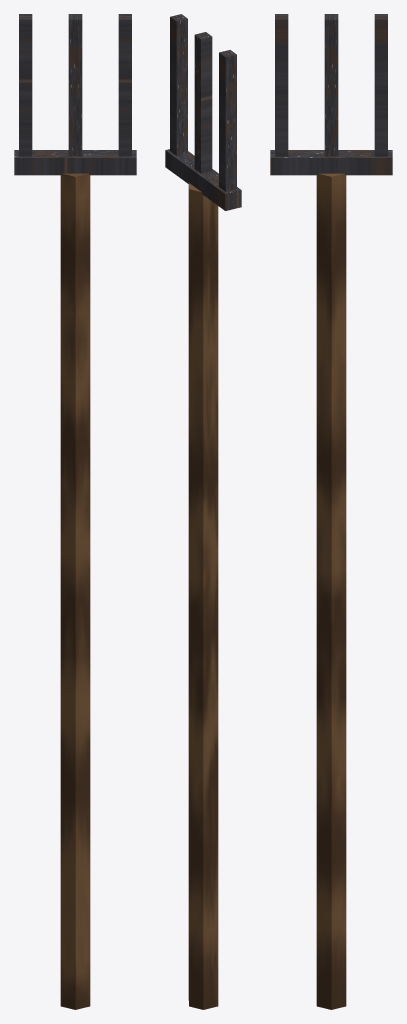
Rendered from rival_pitchfork.obj.
3 views of the same model, side by side, from view 1: azimuth 90°, elevation 25°; view 2: azimuth 210°, elevation 25°; view 3: azimuth 270°, elevation 25° (orthographic).
Visible parts, largest first — view 1: rival_pitchfork; view 2: rival_pitchfork; view 3: rival_pitchfork.
Part boxes in pixels (left/top/right/bottom): rival_pitchfork: left=14, top=14, right=136, bottom=1009; rival_pitchfork: left=165, top=14, right=241, bottom=1009; rival_pitchfork: left=270, top=14, right=392, bottom=1009.
Size of the model in its own units: 0.0562 by 1.77 by 0.2.
